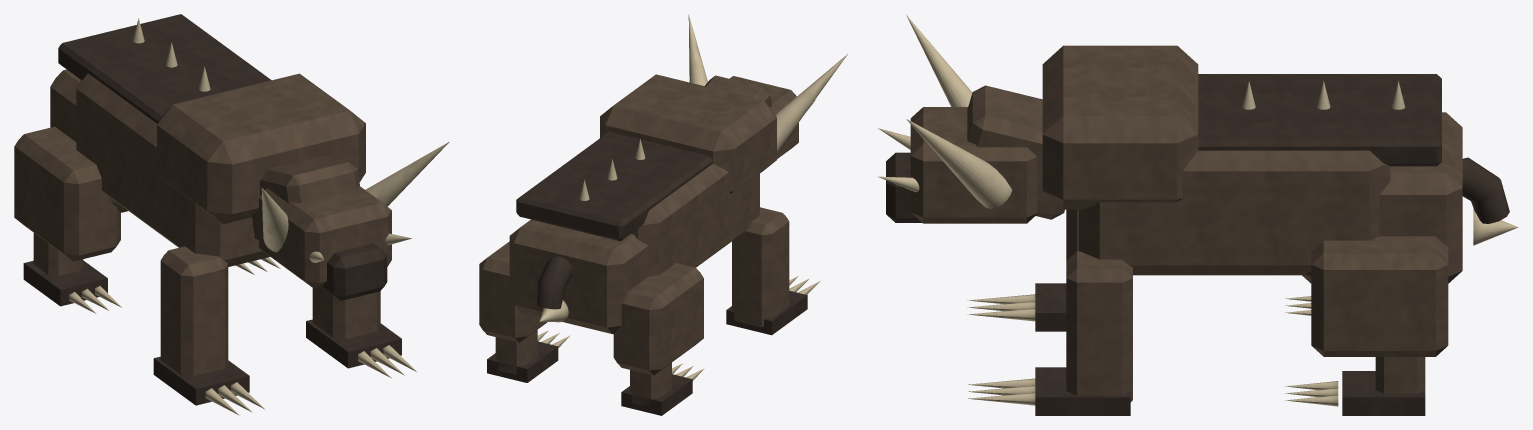
3 renders of one model, left to right at view 1: azimuth 30°, elevation 25°; view 2: azimuth 150°, elevation 25°; view 3: azimuth 270°, elevation 25°, orthographic. The views are drawn at different scales.
Visible parts, largest first — view 1: survival_klauwbeest; view 2: survival_klauwbeest; view 3: survival_klauwbeest.
Part boxes in pixels (x1,y1,x2,y2): survival_klauwbeest: (14, 14, 449, 415); survival_klauwbeest: (479, 14, 847, 415); survival_klauwbeest: (878, 15, 1518, 415).
Size of the model in its own units: 1.36 by 1.56 by 3.09.
Materials: 3 (3 with a texture image).
